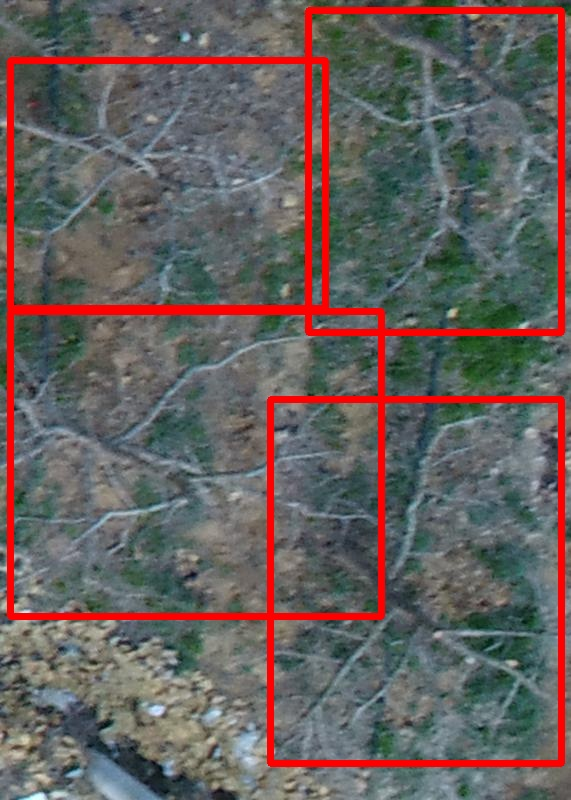apple: (10, 311, 381, 616), (270, 399, 561, 763), (308, 10, 561, 332), (10, 60, 325, 308)
